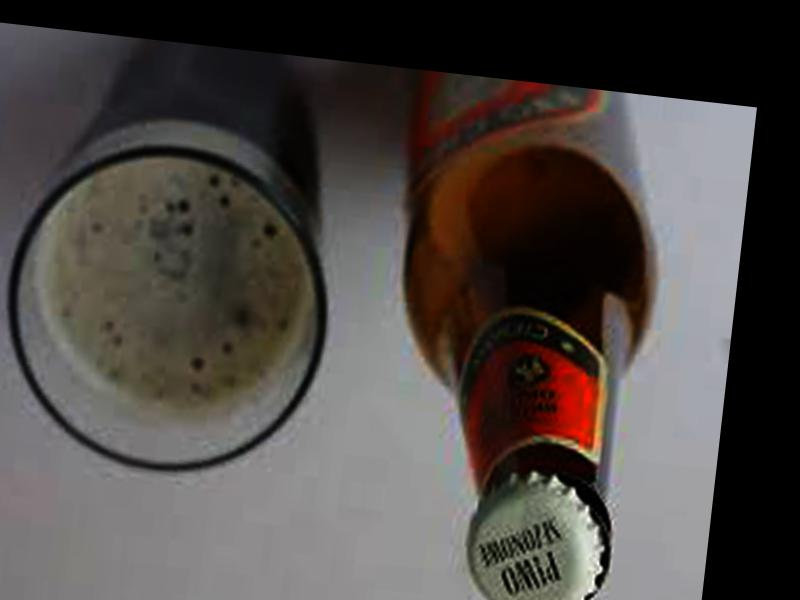Beer: (352, 68, 675, 600)
